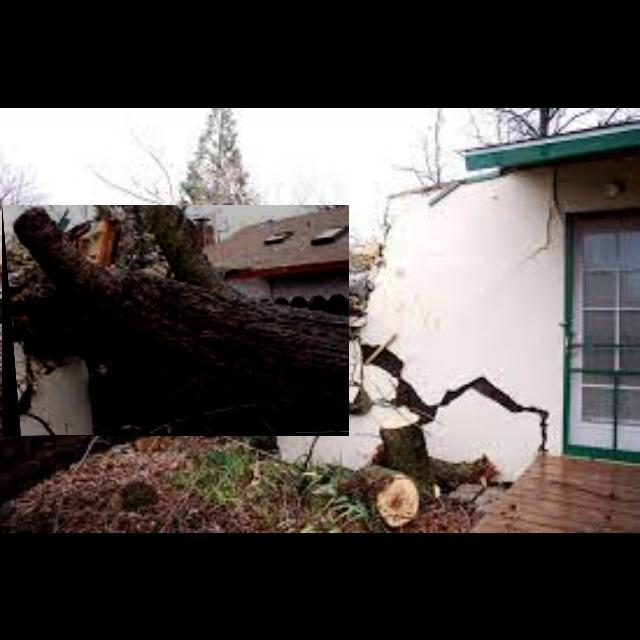fallen_tree: (2, 205, 350, 437)
